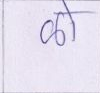au_matra: (51, 1, 81, 41)
